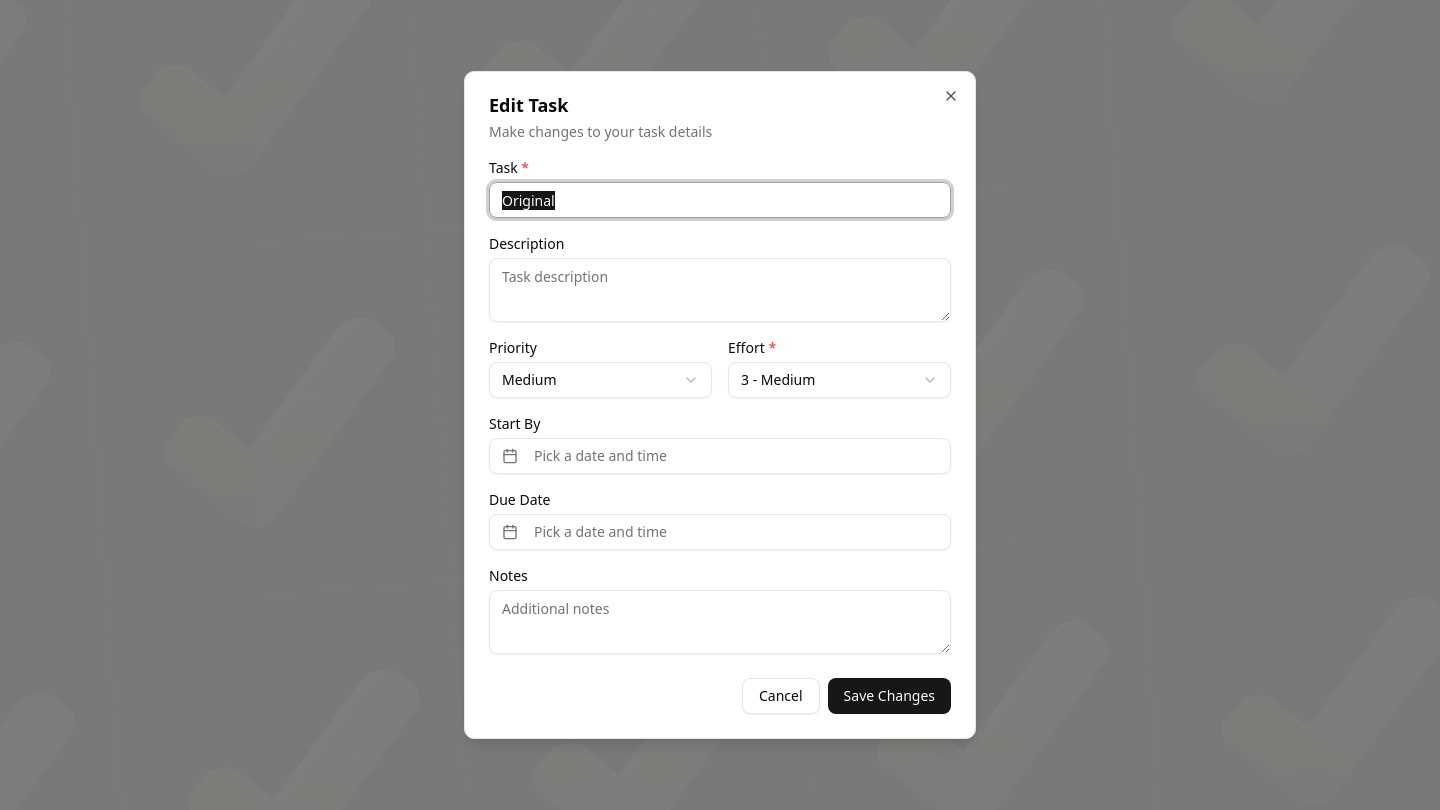
EditTaskDialog discard guard › dirty close: Escape shows confirmation; Keep Editing keeps open; Discard closes
The width and height of the screenshot is (1440, 810).
Expected: the dialog "Edit Task" is shown, [464,71,976,739]
Replace the text in the field with placeholder "Task name" with "Changed Name": (720, 200) [489,182,951,218]
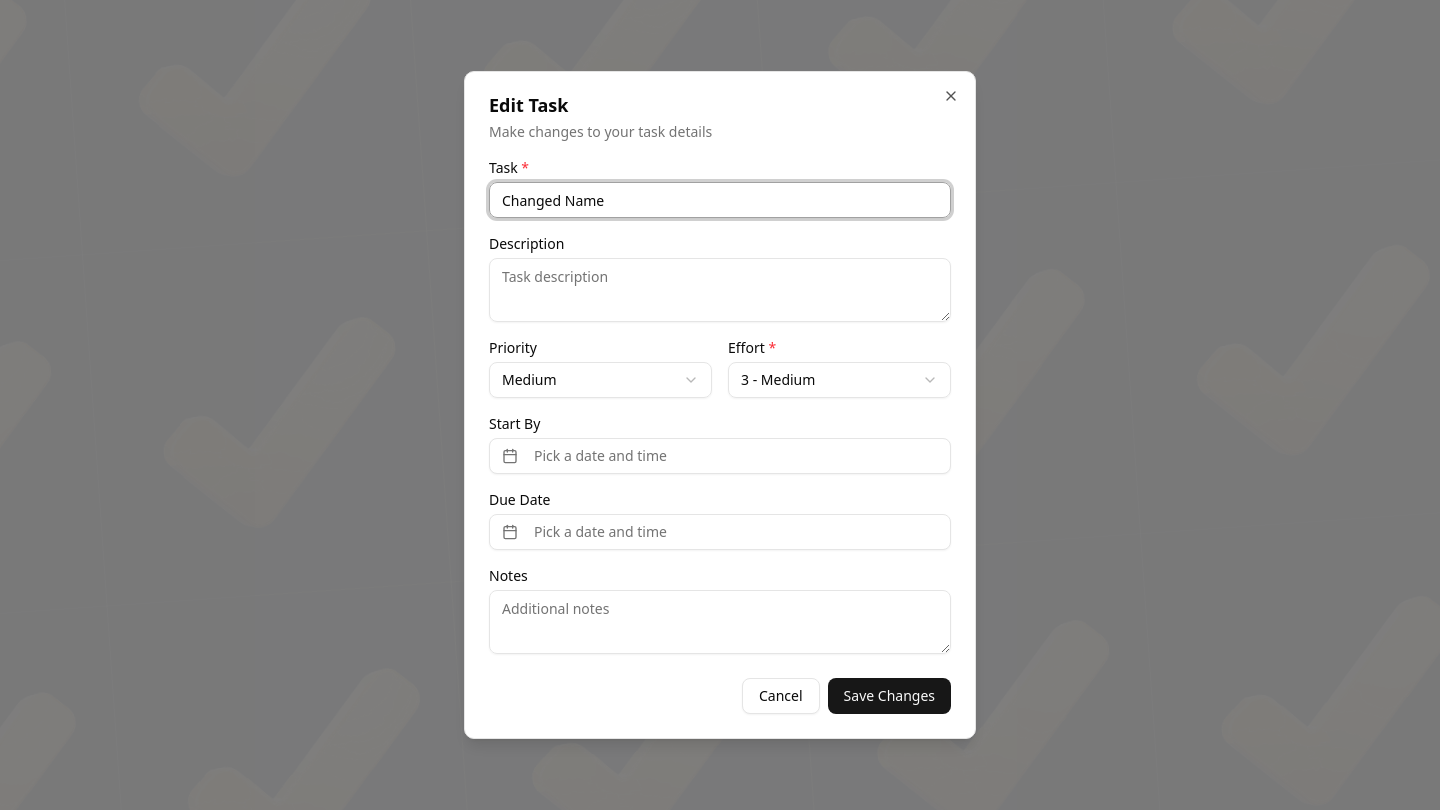
Press Escape
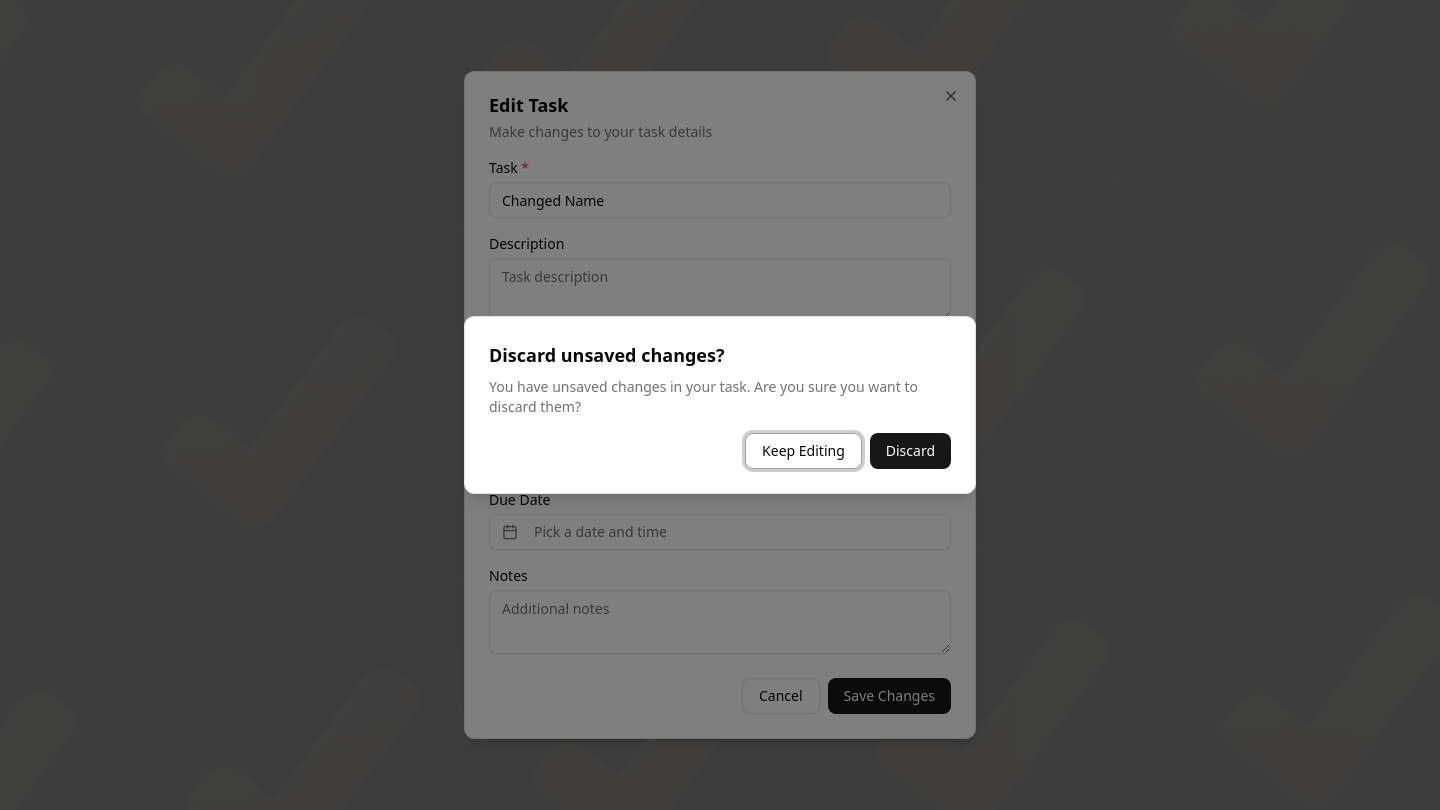
Result: the dialog "Discard unsaved changes" is shown at [464,316,976,494]
Click the button "Keep Editing": (803, 451) [745,433,862,469]
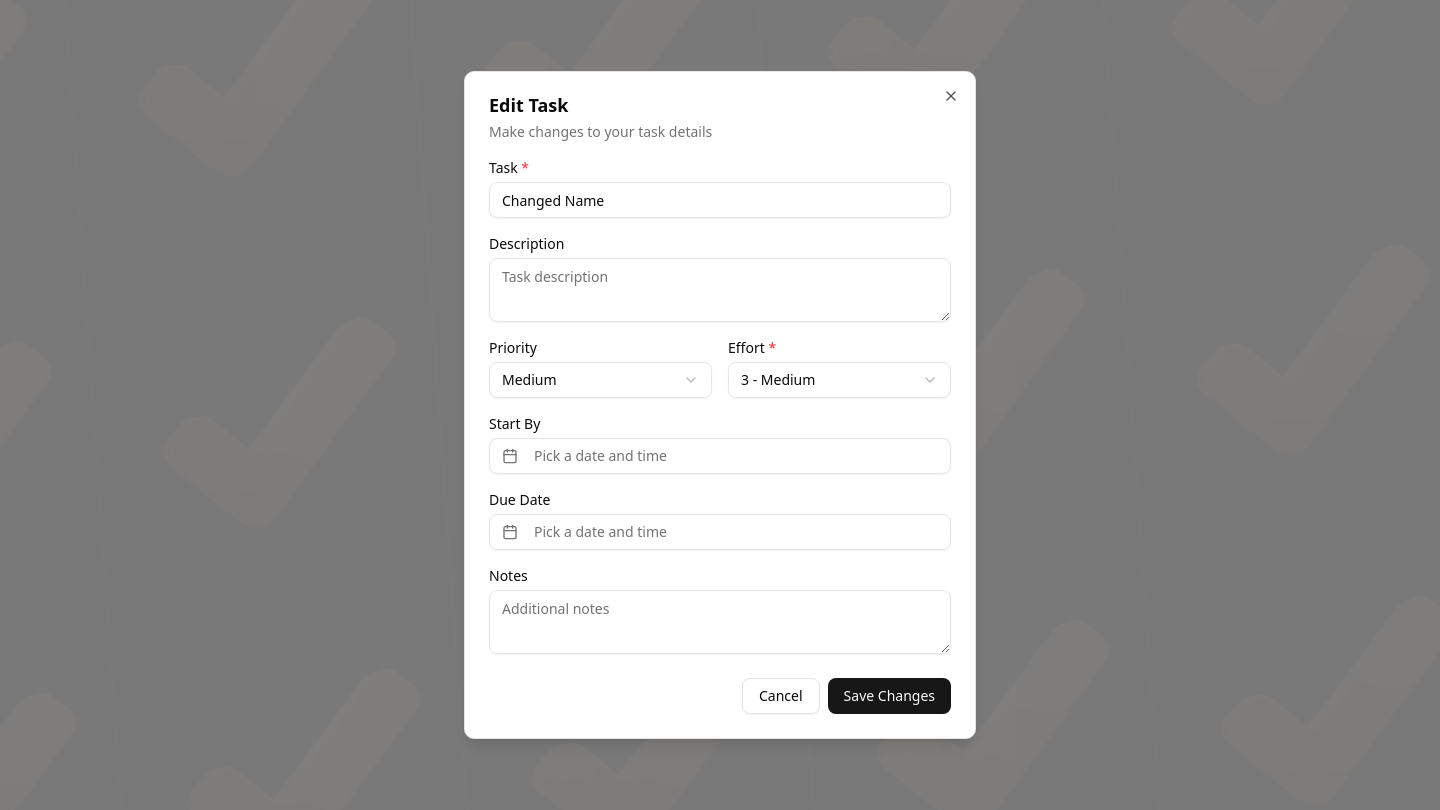
Expected: the dialog "Edit Task" is shown, [464,71,976,739]
Press Escape
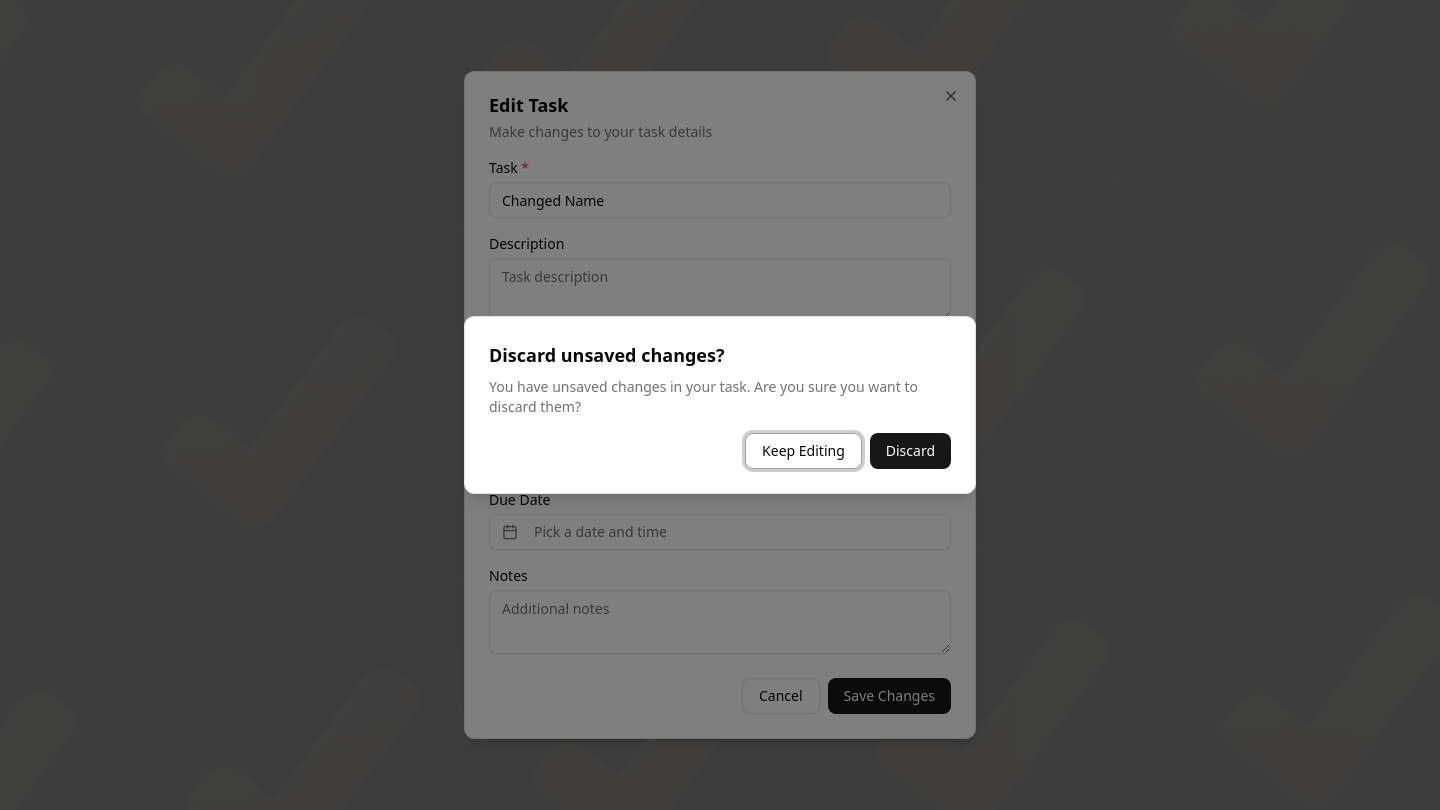
Result: the dialog "Discard unsaved changes" is shown at [464,316,976,494]
Click the button "Discard": (910, 451) [870,433,951,469]
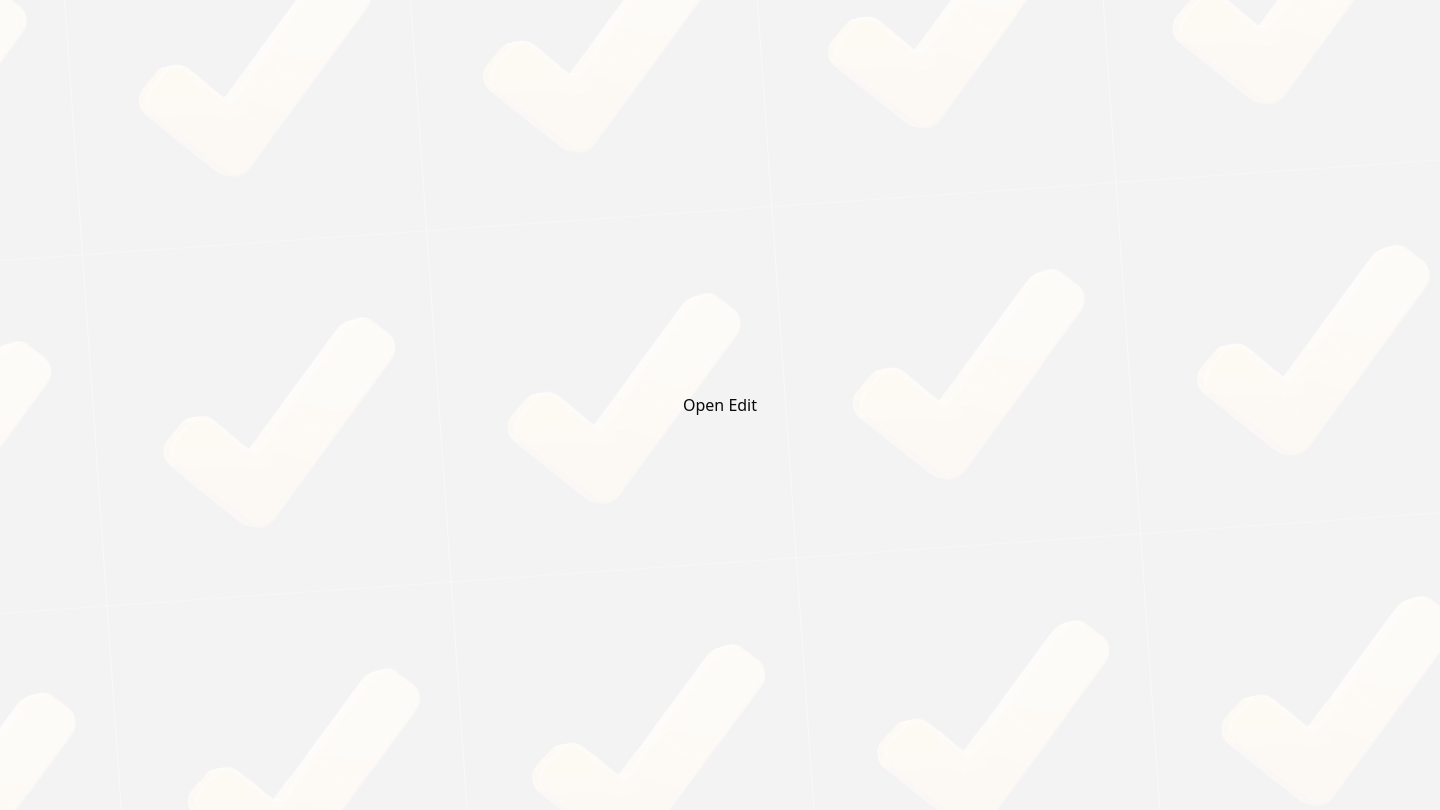
Result: the heading "Edit Task" is gone
